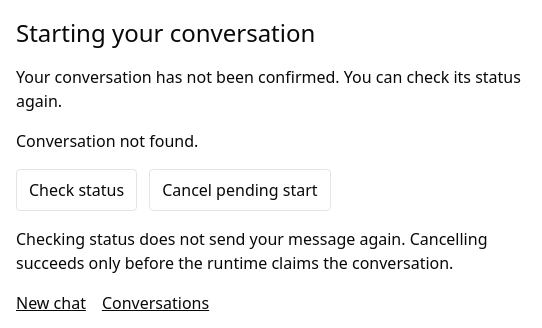
Test case: offers cancellation when status is missing but budget admission may have succeeded
Expected: the message "Conversation not found." is shown, top-left (16, 130), bottom-right (198, 152)
Click the button "Cancel pending start": {"x": 240, "y": 190} top-left (149, 169), bottom-right (331, 211)
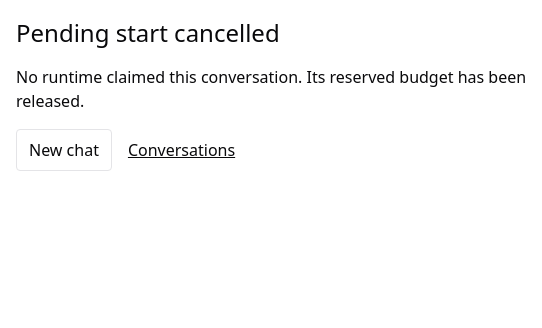
Expected: the heading "Pending start cancelled" is shown, top-left (16, 16), bottom-right (280, 49)
